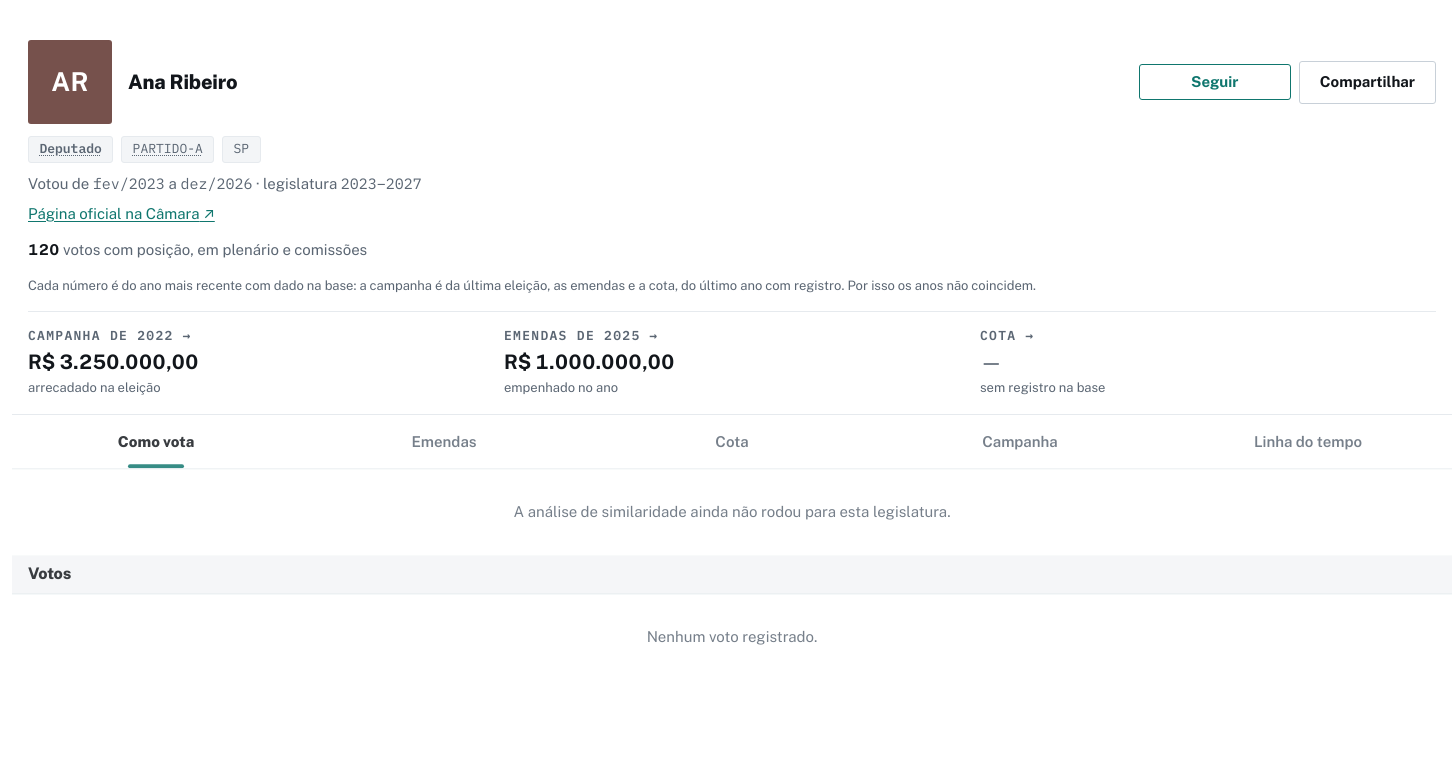
Test case: contas — campanha › DECISÃO: quem repassou os fundos sai numa tabela por fundo, com o total igual aos fundos
Click the link "Campanha" at point(1020, 442), box [982,433,1058,450]
(page scrolled)
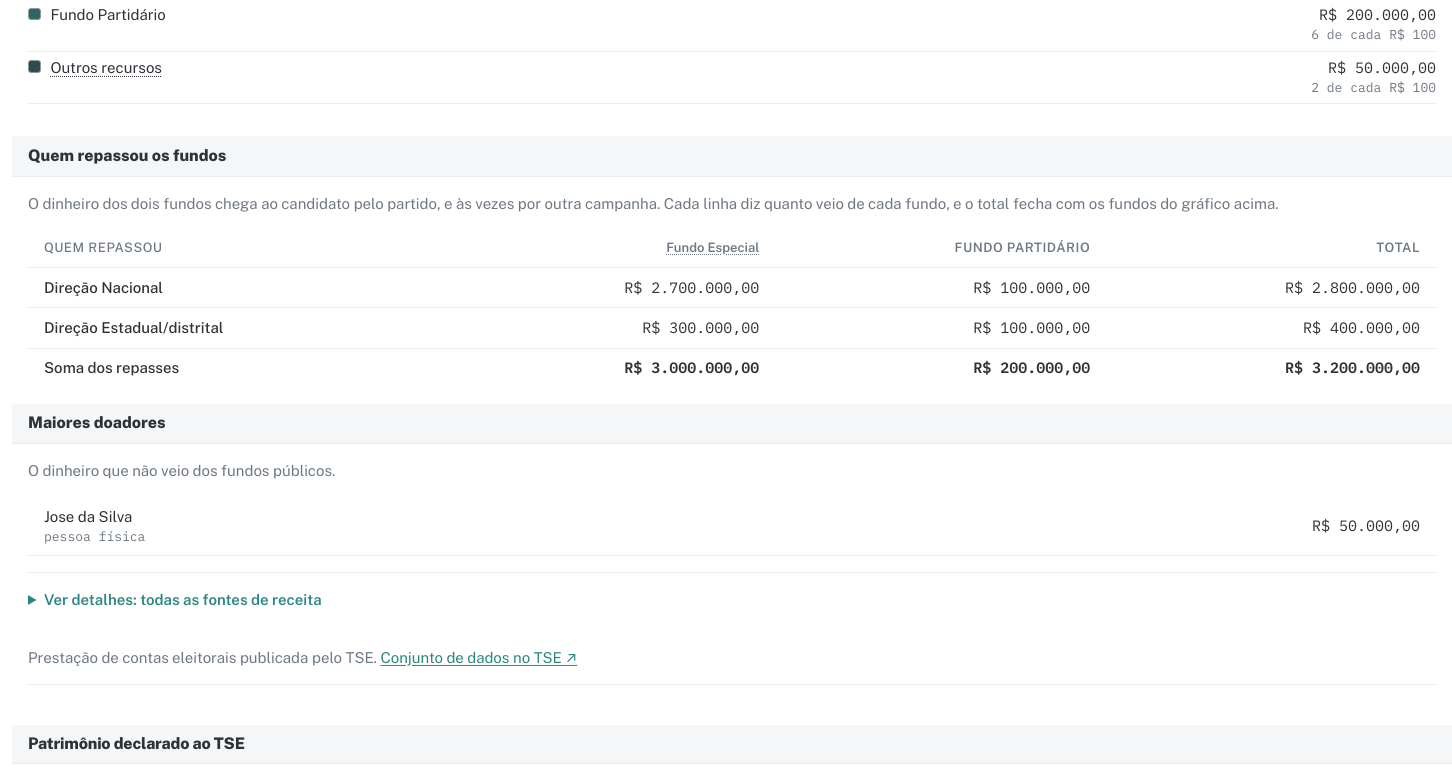
Now the row "Direção Nacional" reads "Direção Nacional R$ 2.700.000,00 R$ 100.000,00 R$ 2.800.000,00", box [28,267,1436,307]
Now the row "Soma dos repasses" reads "Soma dos repasses R$ 3.000.000,00 R$ 200.000,00 R$ 3.200.000,00", box [28,347,1436,387]
